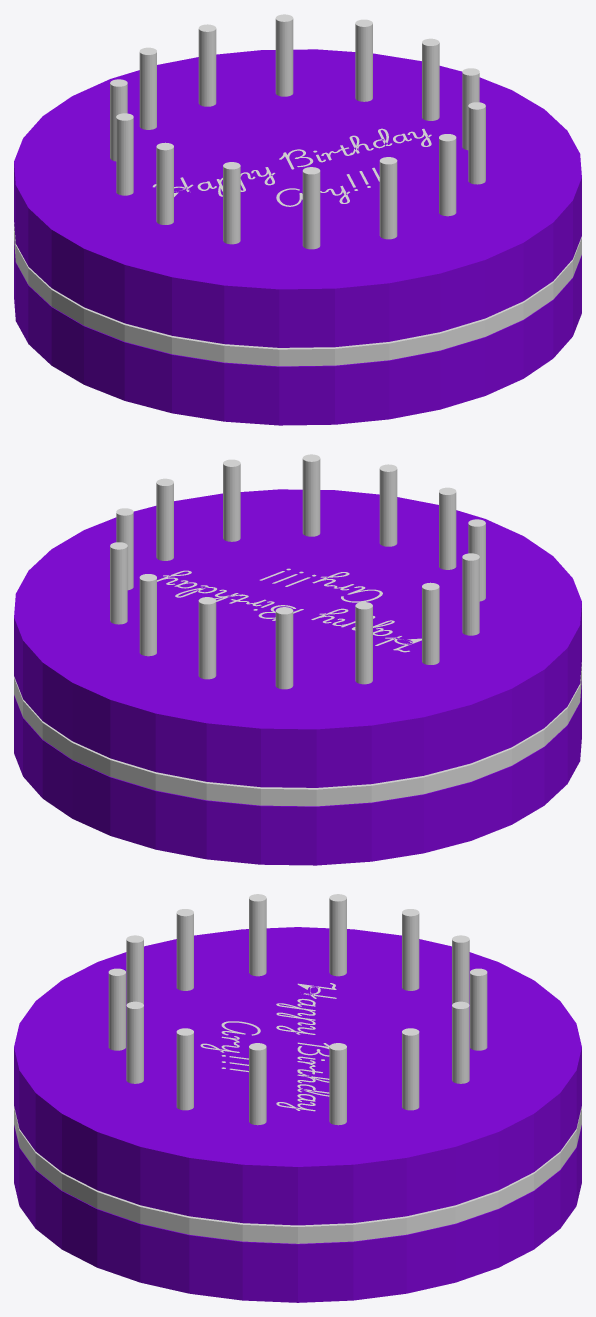
File: Cake.glb
3 views of the same model, one above another, from view 1: azimuth 30°, elevation 25°; view 2: azimuth 150°, elevation 25°; view 3: azimuth 270°, elevation 25° (orthographic).
Visible parts, largest first — view 1: Cylinder.002, Cylinder, Candles, Cylinder.001, Text; view 2: Cylinder.002, Cylinder, Candles, Cylinder.001, Text; view 3: Cylinder.002, Cylinder, Candles, Cylinder.001, Text.
Boxes of the visible parts, x1,y1,x2,y2 form: Cylinder.002: (14,49,581,347); Cylinder: (14,241,581,425); Candles: (110,14,485,249); Cylinder.001: (14,222,581,366); Text: (152,128,431,206); Cylinder.002: (14,489,581,787); Cylinder: (14,681,581,865); Candles: (110,454,485,689); Cylinder.001: (14,662,581,806); Text: (157,568,421,652); Cylinder.002: (14,927,581,1225); Cylinder: (14,1125,581,1302); Candles: (108,894,487,1125); Cylinder.001: (14,1106,581,1243); Text: (200,983,336,1111).
Size of the model in its own units: 9.43 by 3.86 by 9.43.
